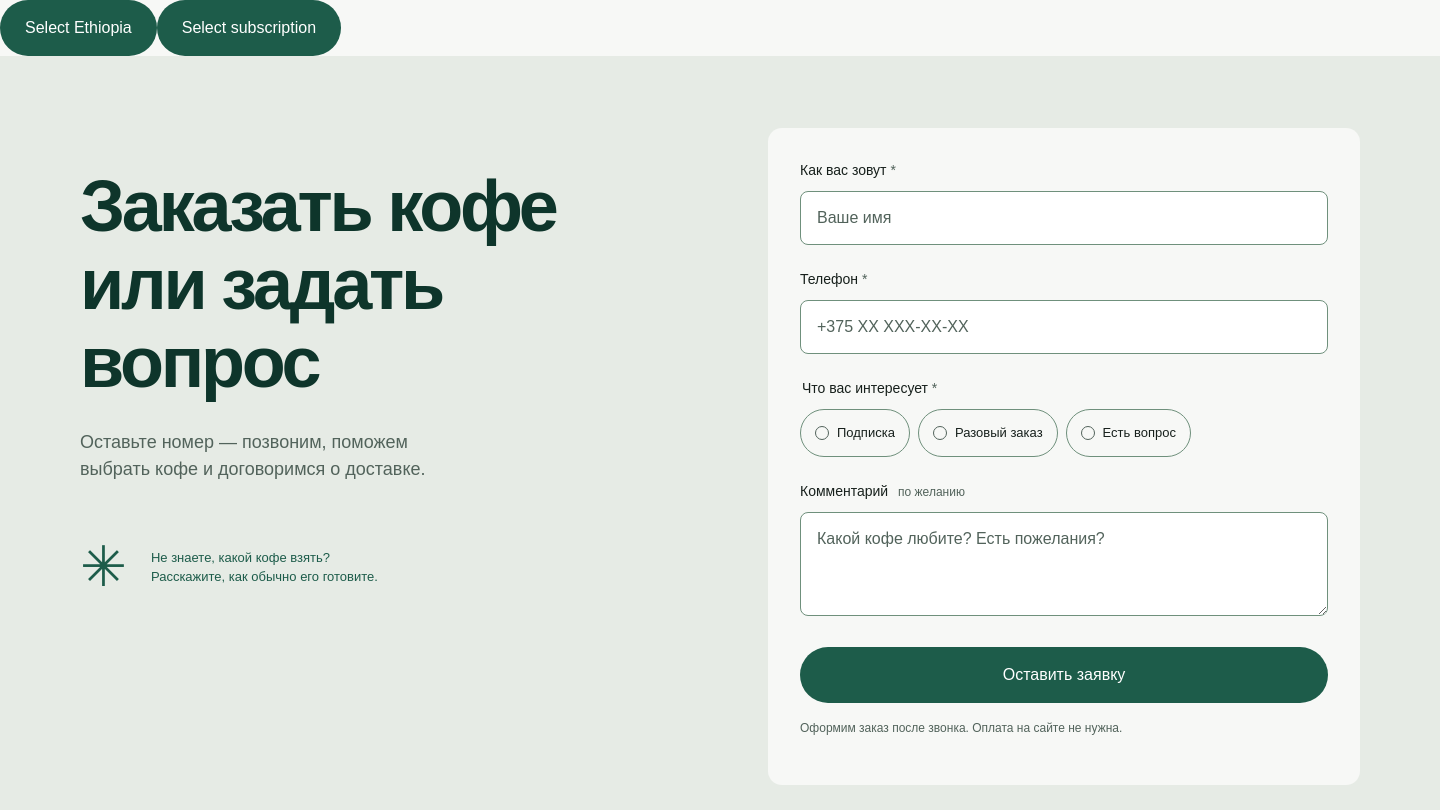
it: submits the form with +375 29 123-45-67 without requiring a specific phone format
Type "Phone format check" into the field labelled "Как вас зовут *" at (1064, 218), box [800,191,1328,245]
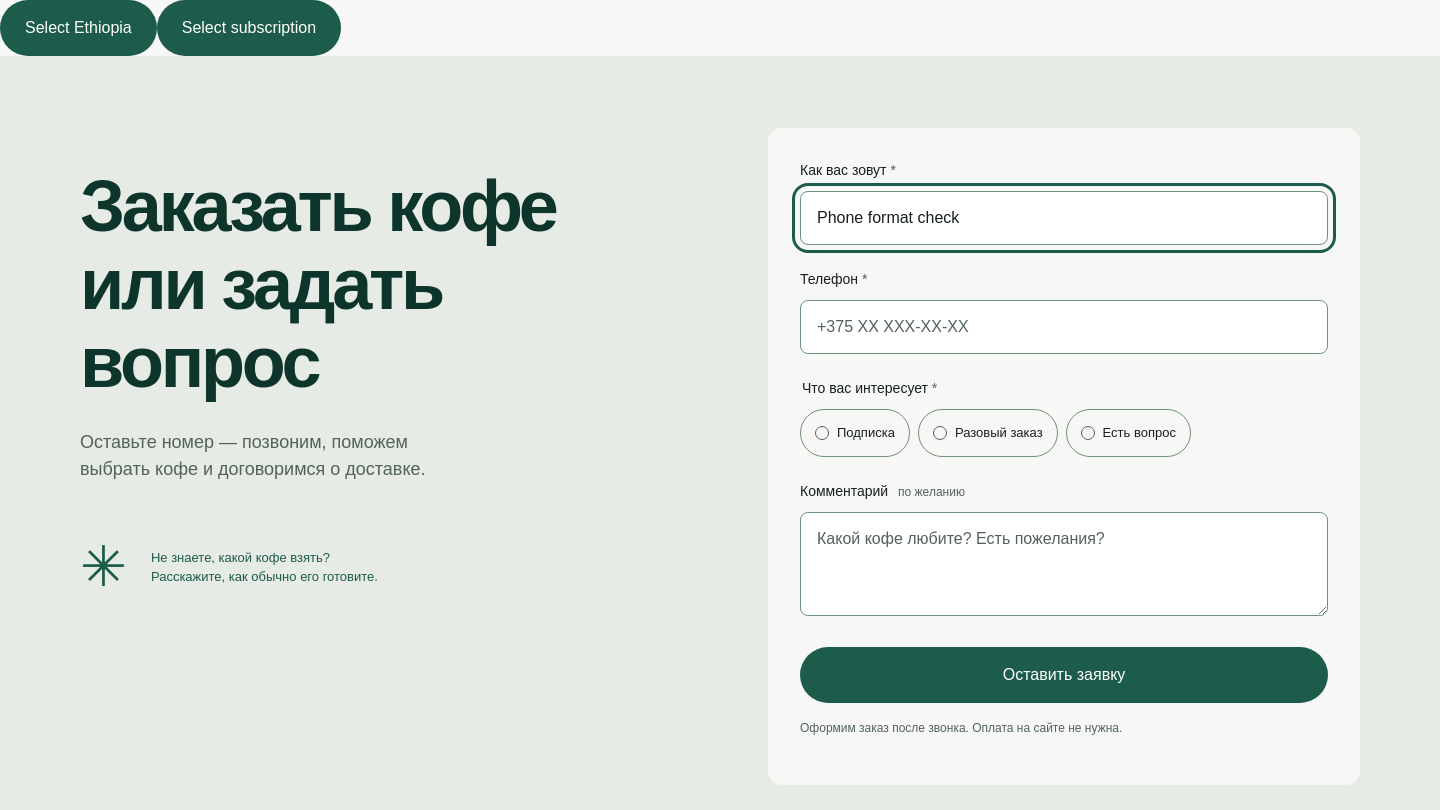
Type "+375 29 123-45-67" into the field labelled "Телефон *" at (1064, 327), box [800,300,1328,354]
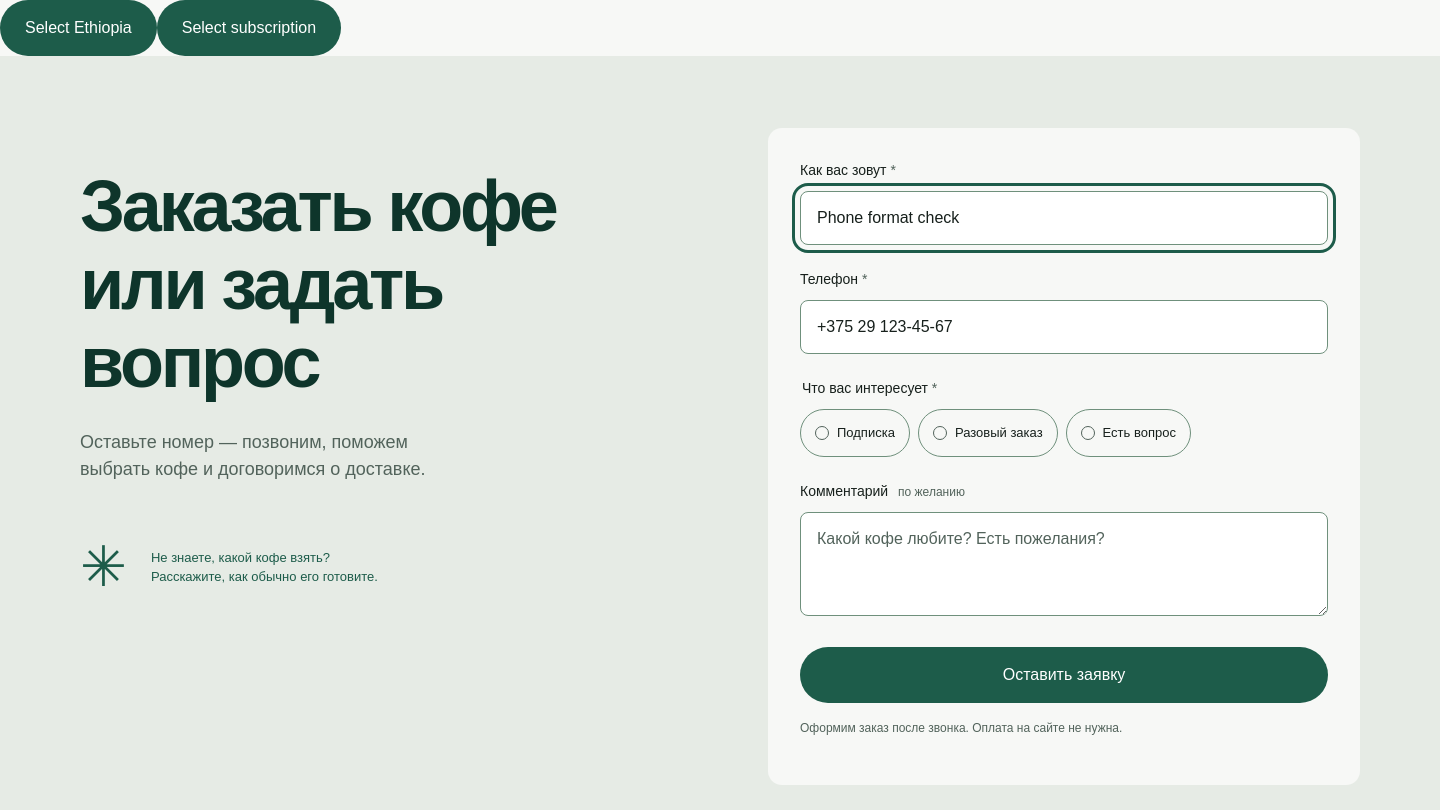
Click the radio button labelled "Есть вопрос" at (1128, 433), box [1066,409,1191,457]
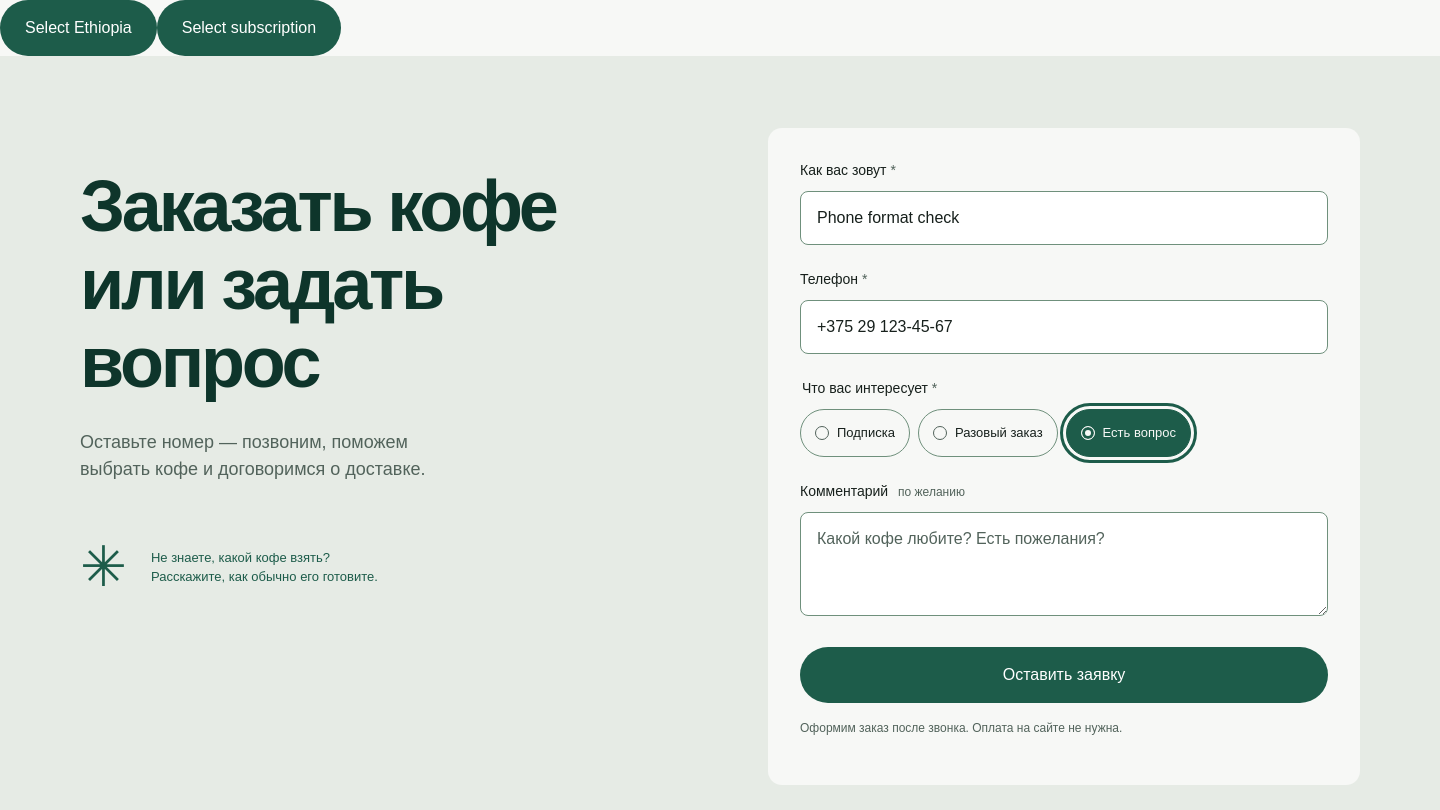
Click the button "Оставить заявку" at (1064, 675), box [800,647,1328,703]
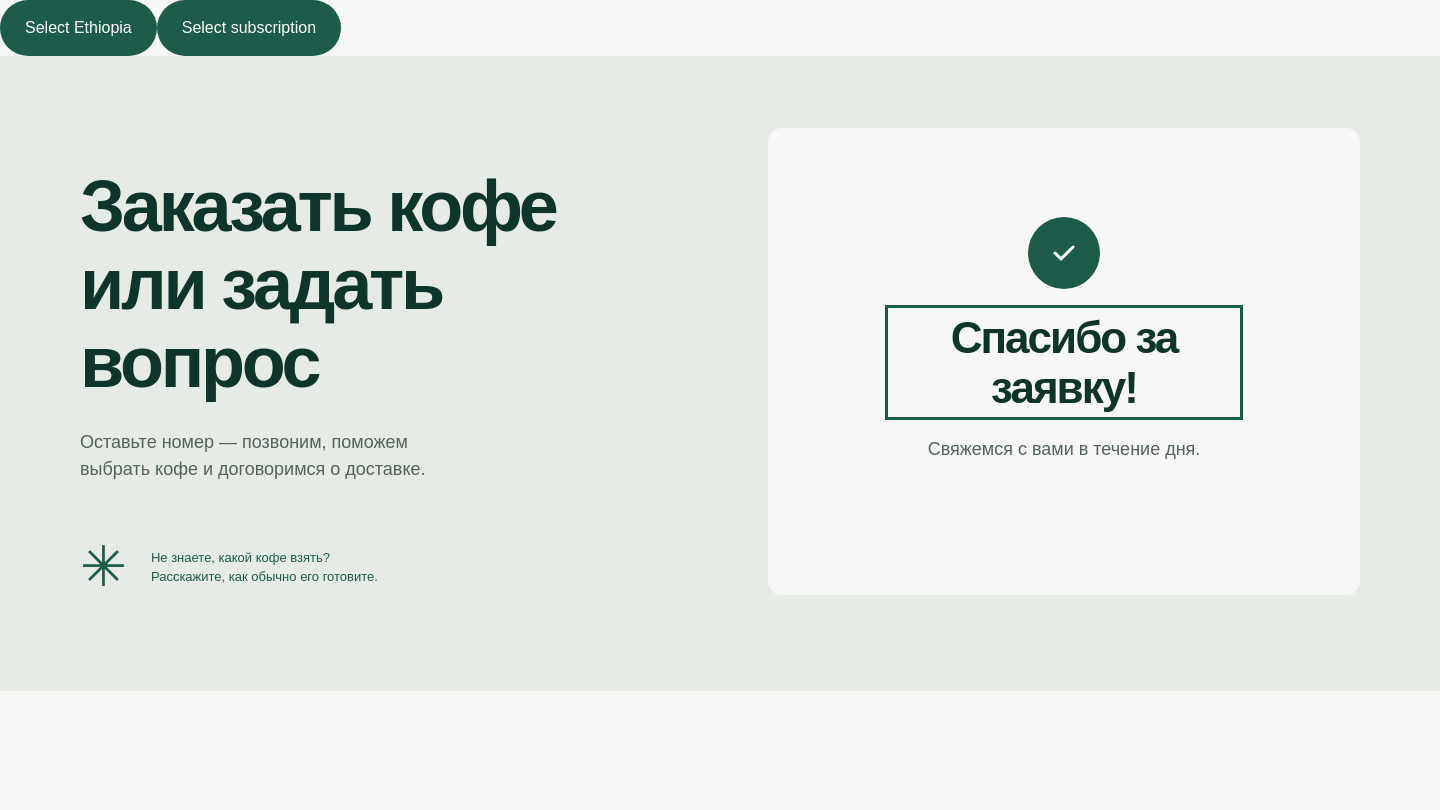
Check: the text "Свяжемся с вами в течение дня." is shown, box [928,436,1200,463]
